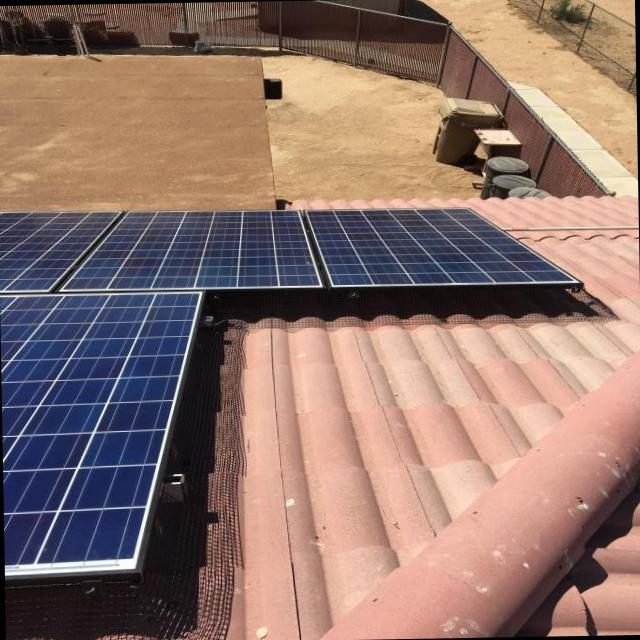no faulty: (6, 292, 196, 564), (309, 209, 569, 282), (72, 210, 319, 286), (3, 212, 117, 285)
